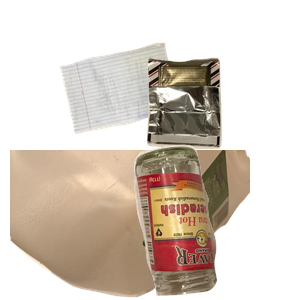glass: (131, 142, 300, 300)
paper: (56, 40, 229, 166)
plastic: (10, 150, 250, 300)
trash: (144, 55, 300, 197)
